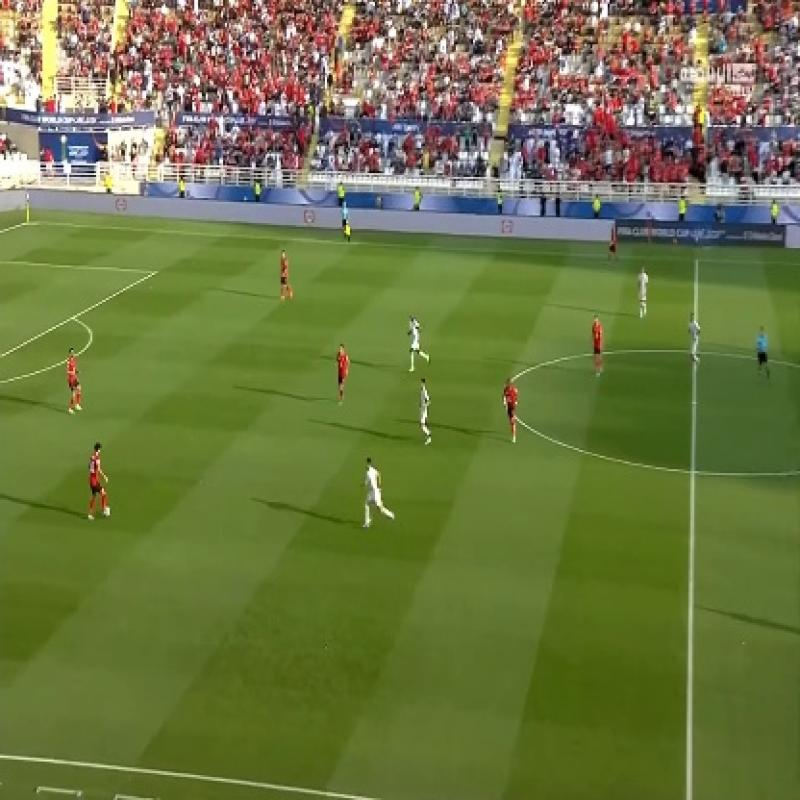1: (18, 211, 36, 227)
10: (63, 306, 81, 325)
13: (688, 244, 706, 269)
15: (679, 452, 706, 488)
9: (144, 262, 160, 280)
c: (498, 380, 517, 401)
